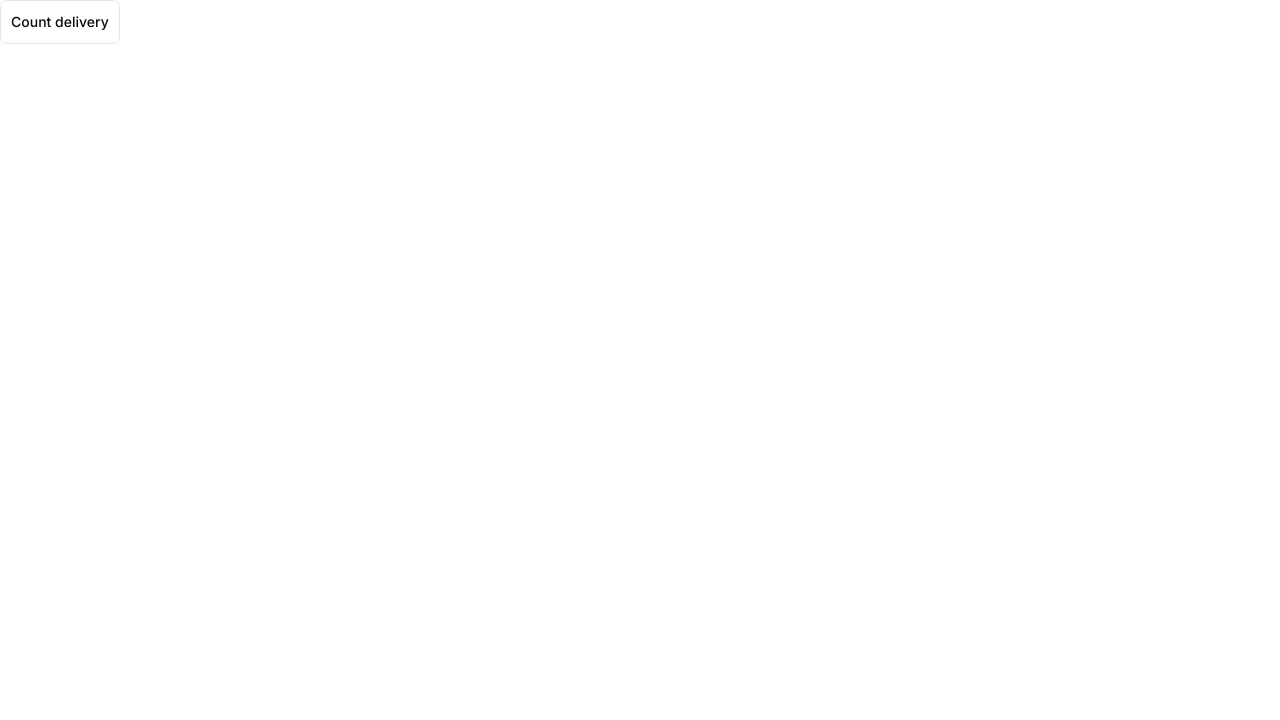
Test case: dispatch receive control › requires a late reason without asking for a delivery date
Later steps or results of the test are not shown.
Click the button "Count delivery".
click(60, 22)  # box [0,0,120,44]
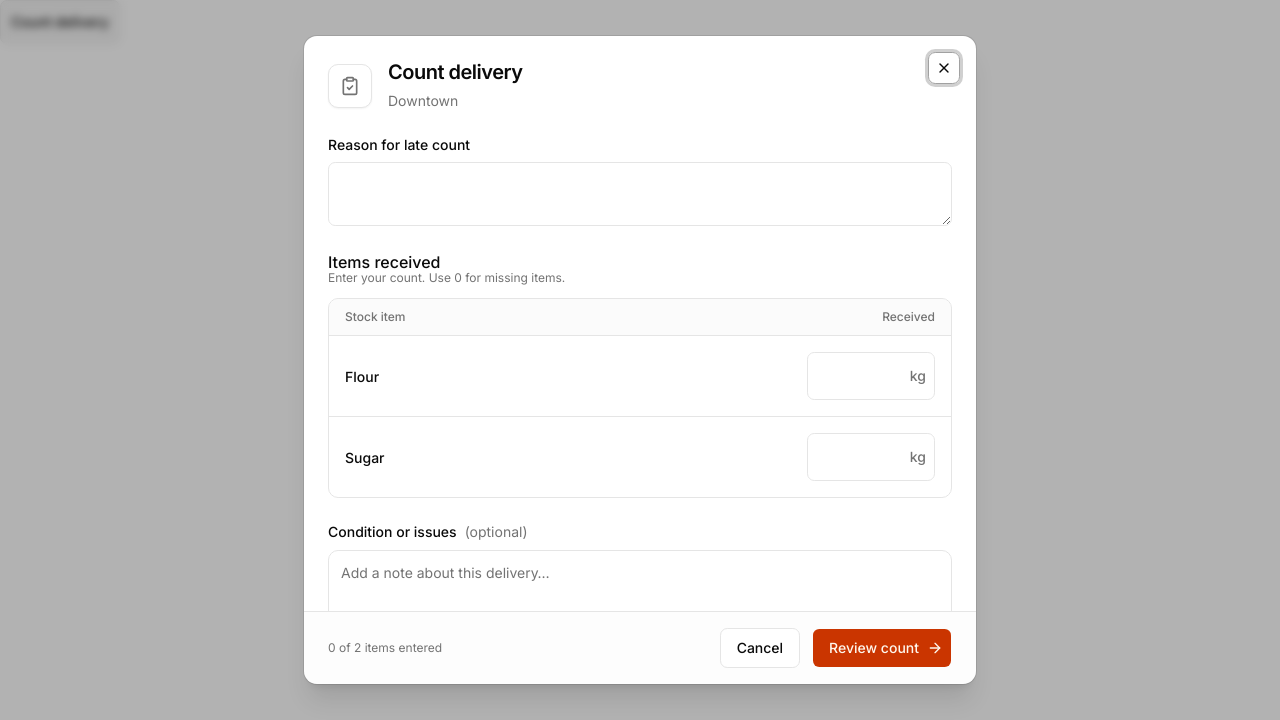
Type "1" into the field named "Flour counted (kg)".
click(859, 376); type("1")  # box [808,353,910,399]
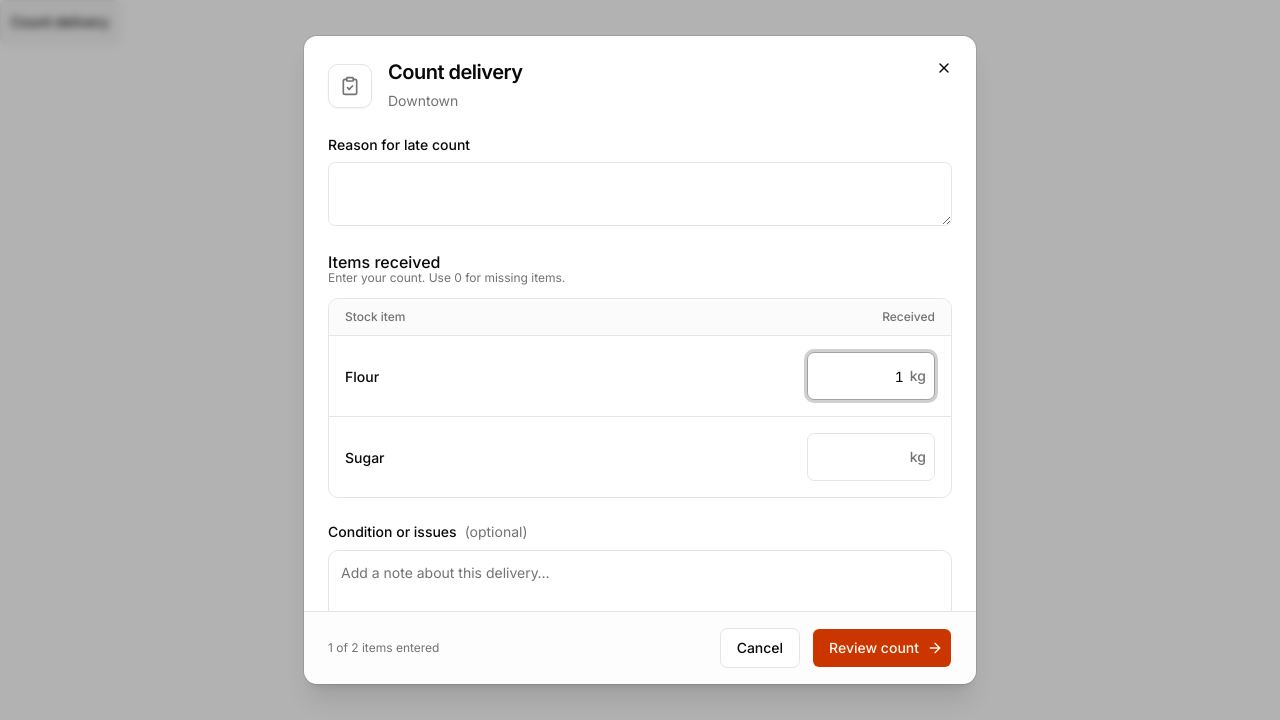
Type "2" into the field named "Sugar counted (kg)".
click(859, 457); type("2")  # box [808,434,910,480]
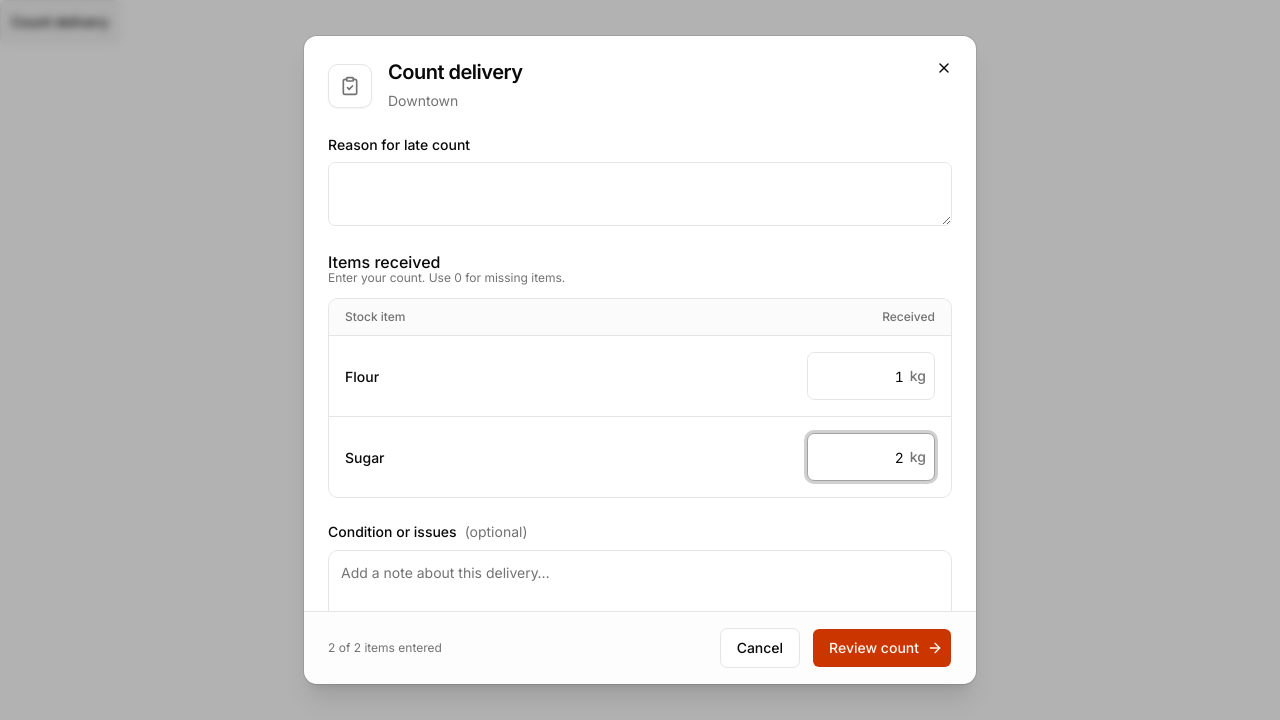
Click the button "Review count".
click(882, 648)  # box [812,628,952,668]
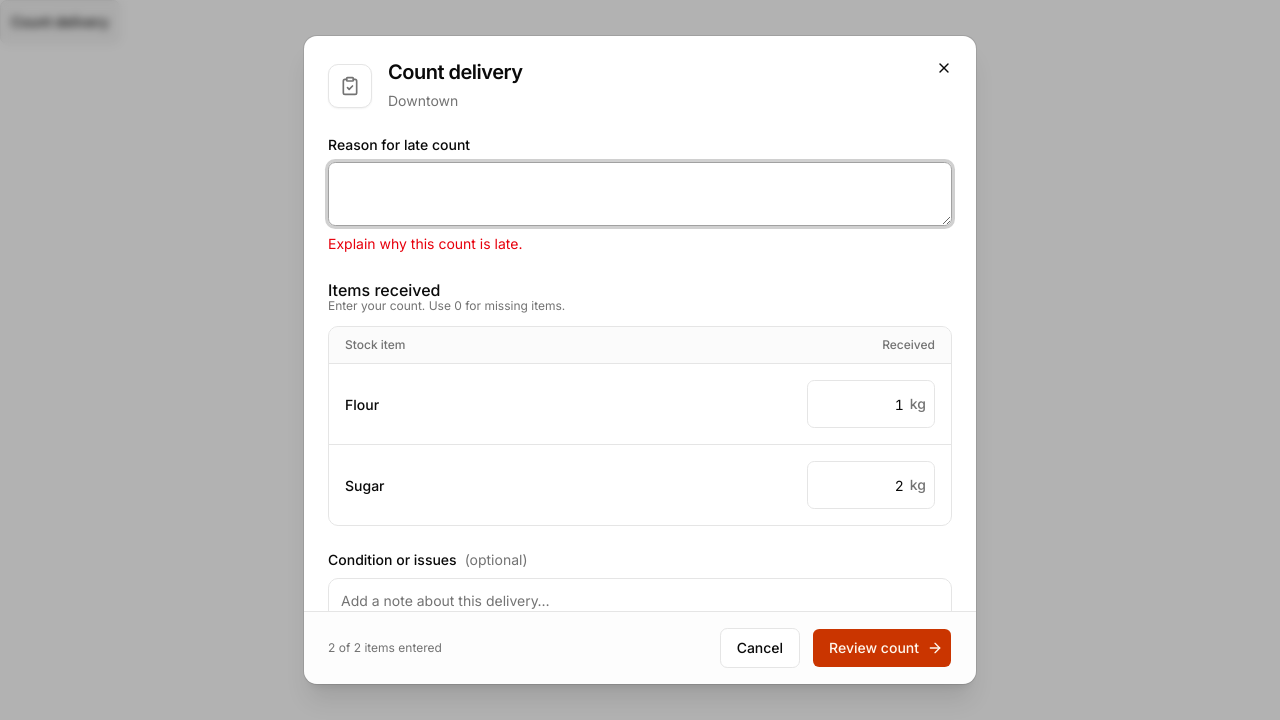
Expected: the text "Explain why this count is late." is shown, [328,235,522,252]
Type "Delivery arrived late" into the text box labelled "Reason for late count".
click(640, 194); type("Delivery arrived late")  # box [328,162,952,226]
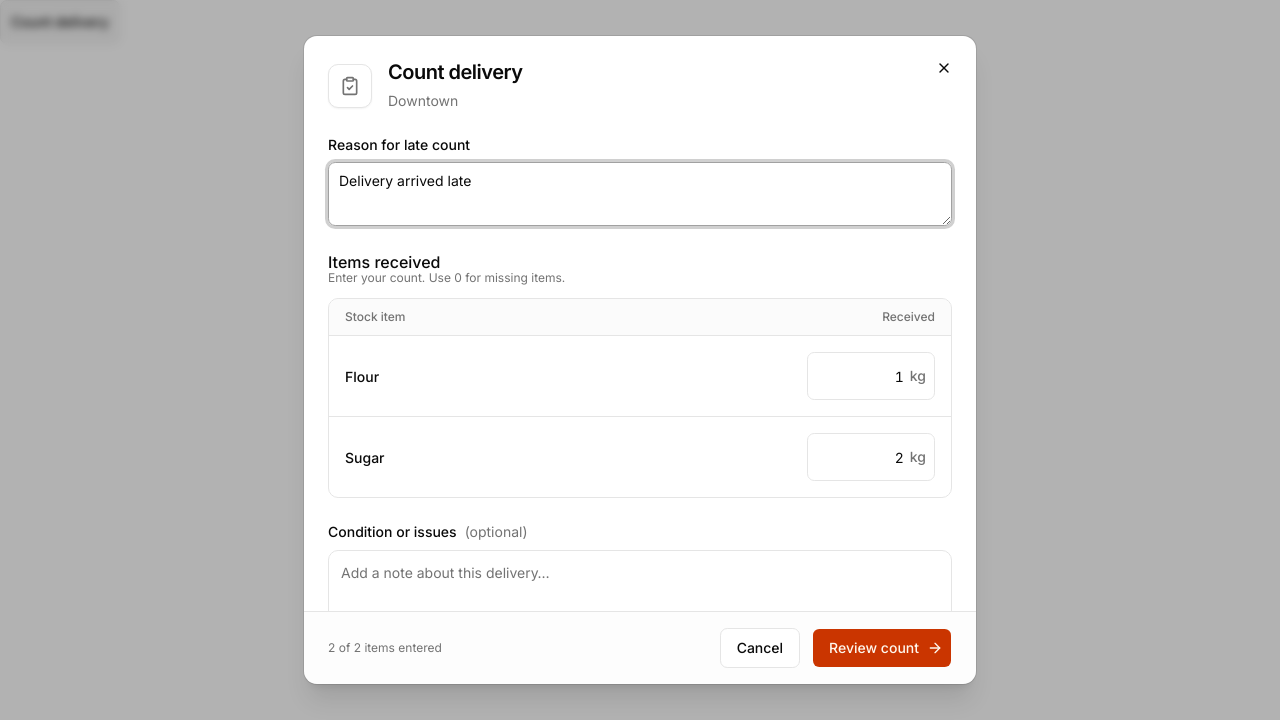
Click the button "Review count".
click(882, 648)  # box [812,628,952,668]
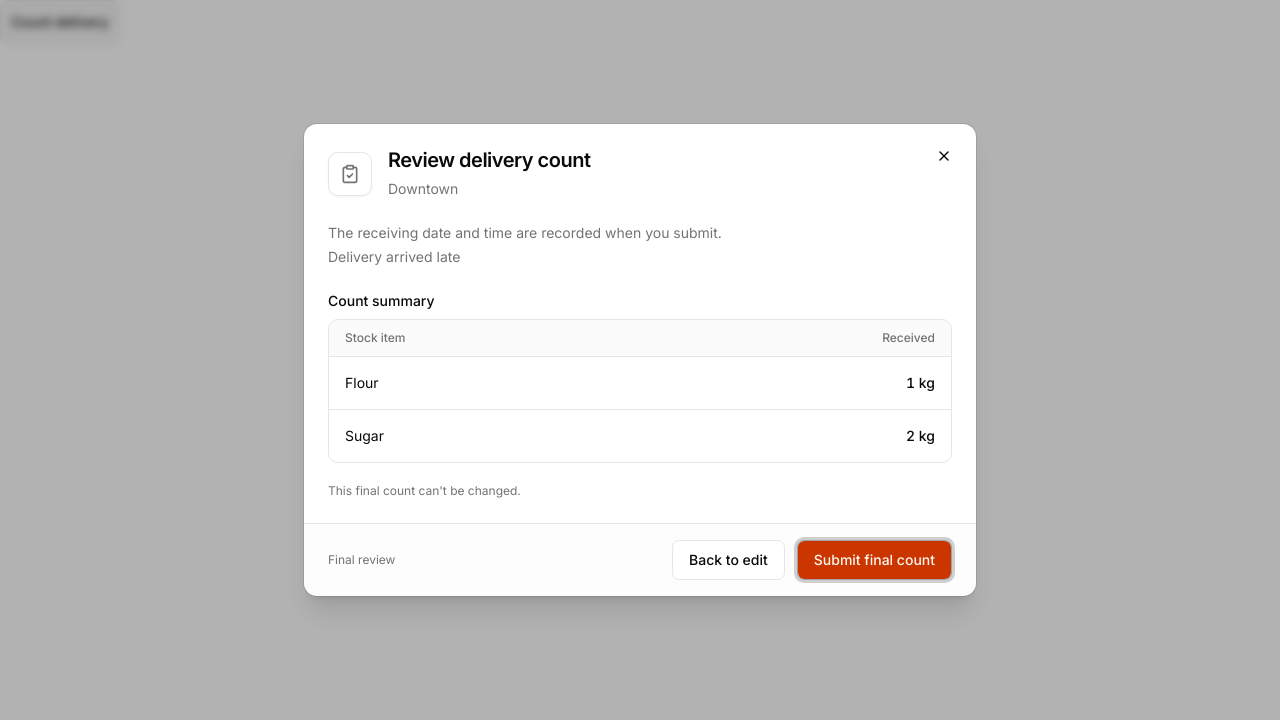
Expected: the text "The receiving date and time are recorded when you submit." is shown, [328,224,722,241]
